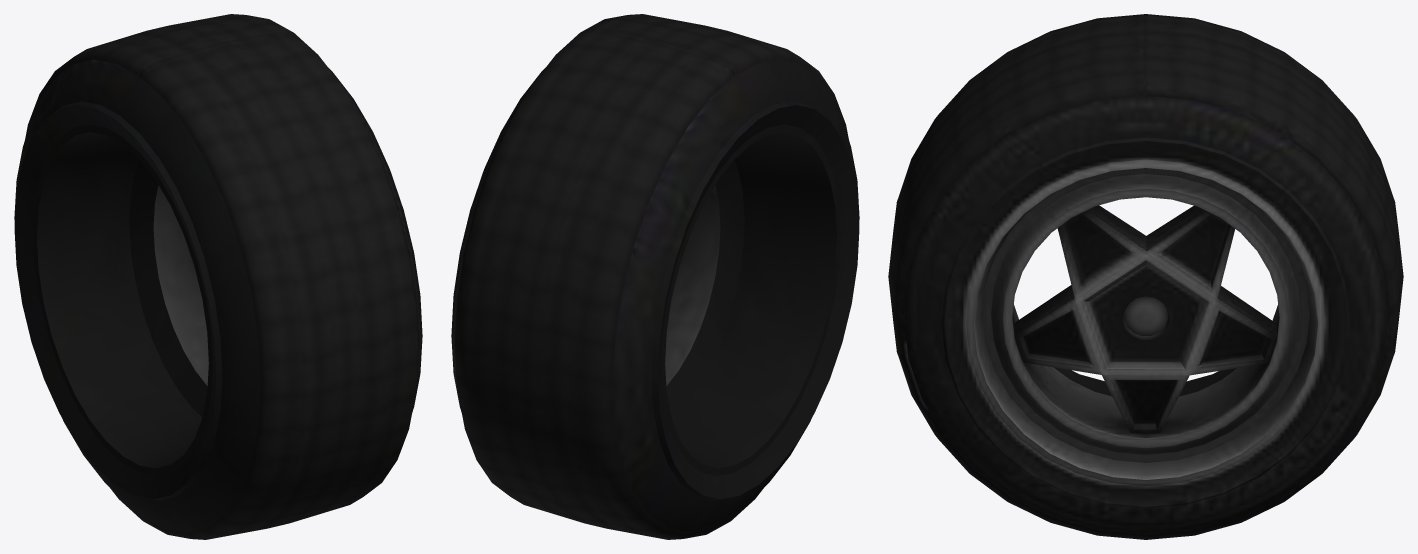
File: wheel.gltf
The picture shows the model from 3 angles, left to right: view 1: azimuth 30°, elevation 25°; view 2: azimuth 150°, elevation 25°; view 3: azimuth 270°, elevation 25°; orthographic projection.
Visible parts, largest first — view 1: ProfessionalTireRim; view 2: ProfessionalTireRim; view 3: ProfessionalTireRim.
Boxes of the visible parts, box(x1,y1,x2,y2) form: ProfessionalTireRim: box(14, 14, 422, 539); ProfessionalTireRim: box(451, 14, 859, 539); ProfessionalTireRim: box(888, 14, 1403, 539).
Bounding box in the file's own units: 0.3387 × 0.7571 × 0.7571.
1 material, 1 textured.
